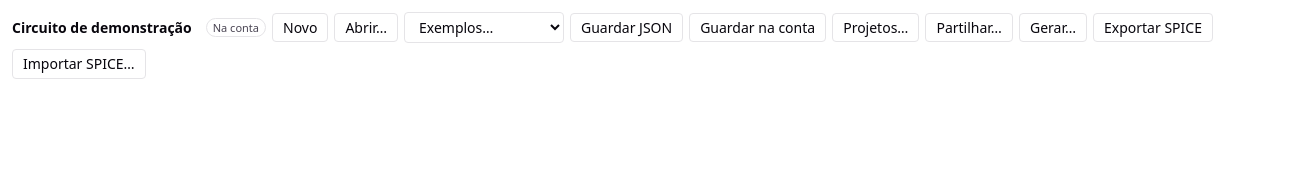
Test: ProjectMenu — projetos na conta (F2-09) › um conflito de versão mostra o erro e mantém a versão ligada
Step 1. Click the button "Guardar na conta" → (758, 28), box [689,13,826,42]
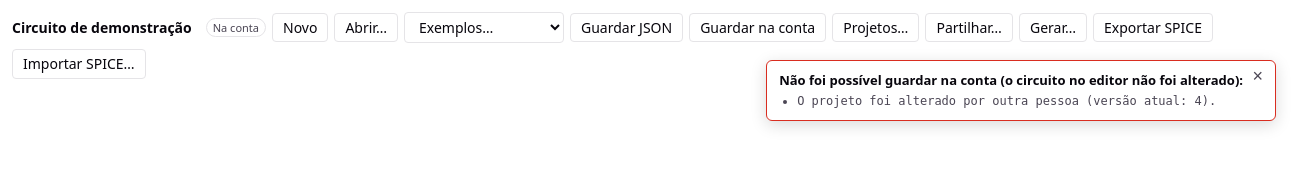
Now the message shows "Não foi possível guardar na conta", box [779,71,1243,89]
Now the message shows "versão atual: 4", box [797,94,1216,108]
